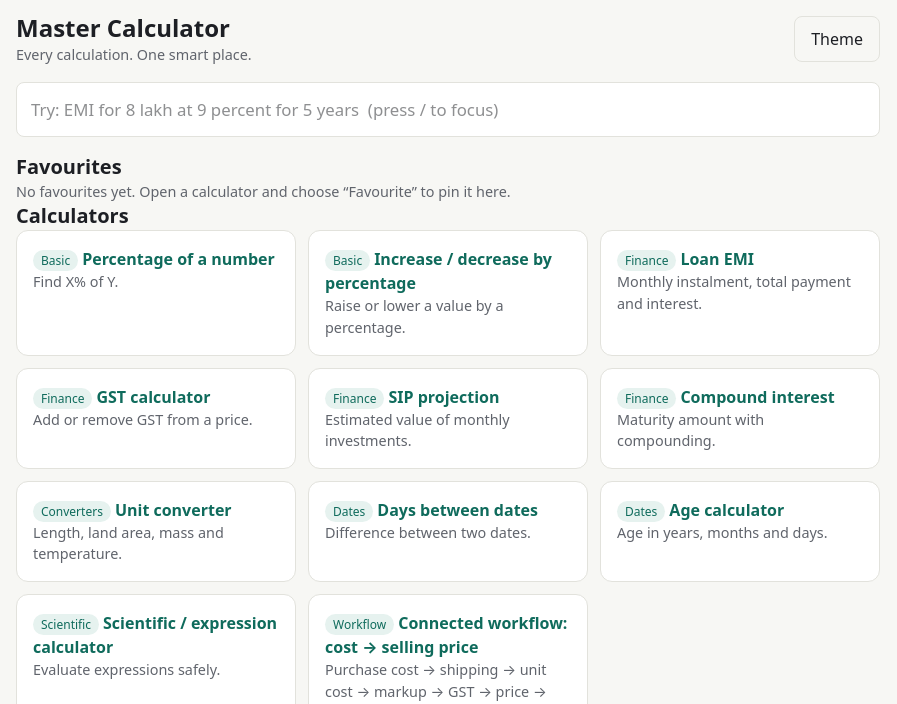
app integration › search: unsupported query shows an honest empty state
Replace the text in the dropdown with "tell me a joke" at (448, 109), box [16, 82, 880, 137]
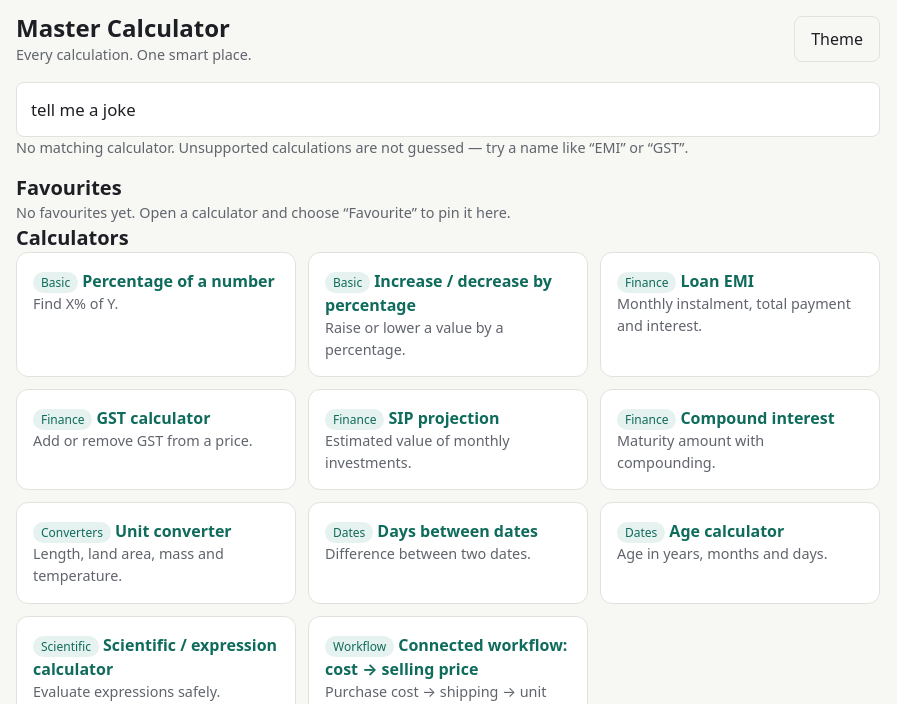
Expected: the message shows "No matching calculator", [16, 138, 688, 157]
